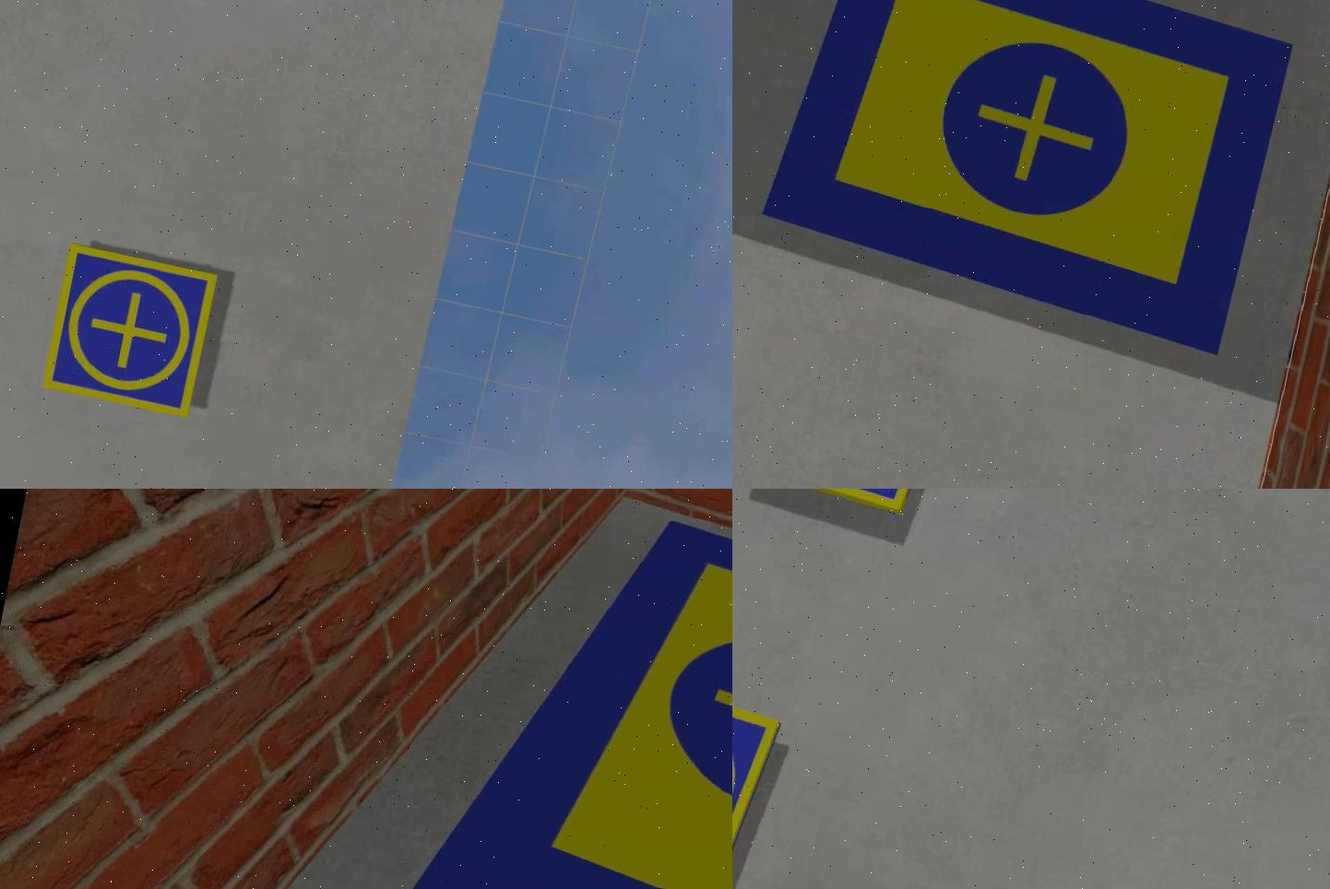large_base: (745, 1, 1304, 365), (385, 490, 731, 889)
small_base: (40, 242, 218, 421), (731, 660, 786, 889), (731, 490, 939, 516)
